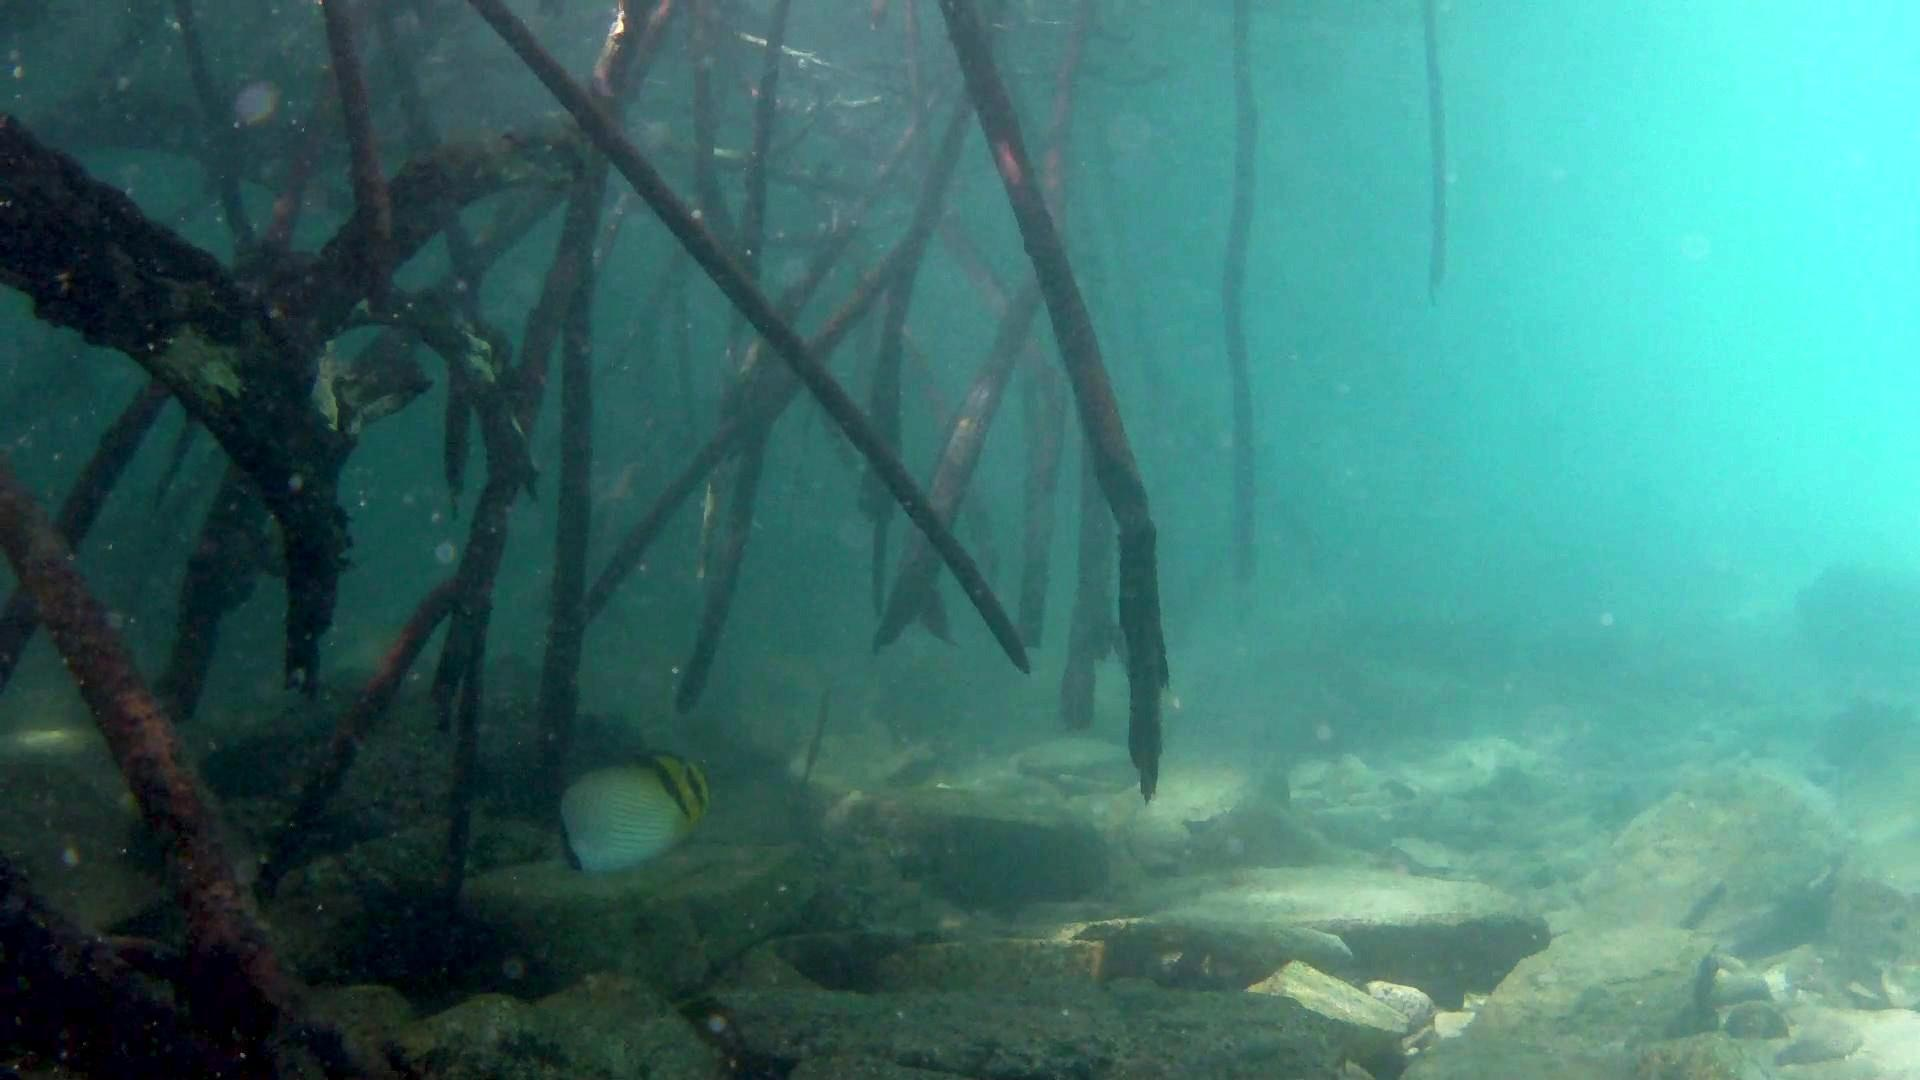chaetodon vagabundus: (546, 750, 712, 874)
